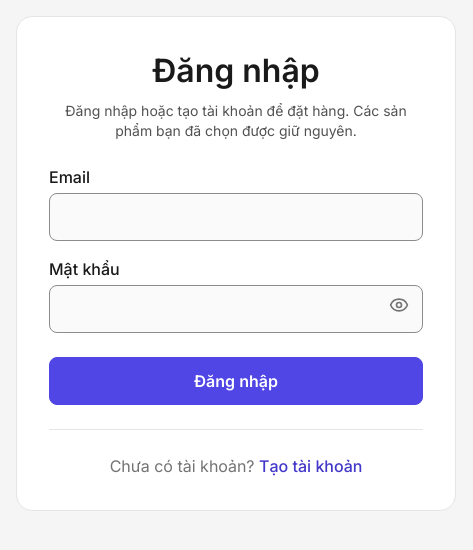
it: LoginPage › submit_showsFieldErrors_withoutCallingCognito_whenEmailInvalid
Type "an@example" into the field labelled "Email" at (236, 217), box left=49, top=193, right=423, bottom=241
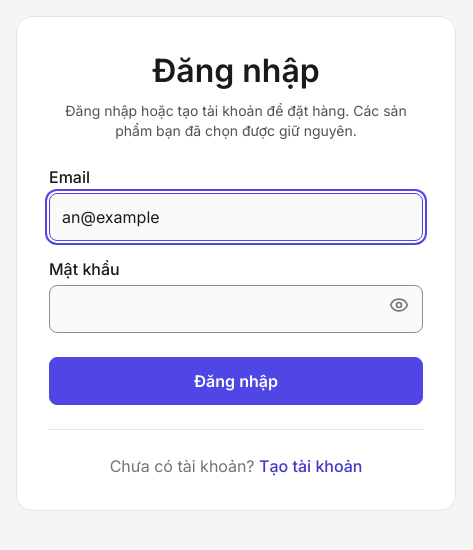
Type "Abcdef1!" into the password field labelled "Mật khẩu" at (236, 309), box left=49, top=285, right=423, bottom=333
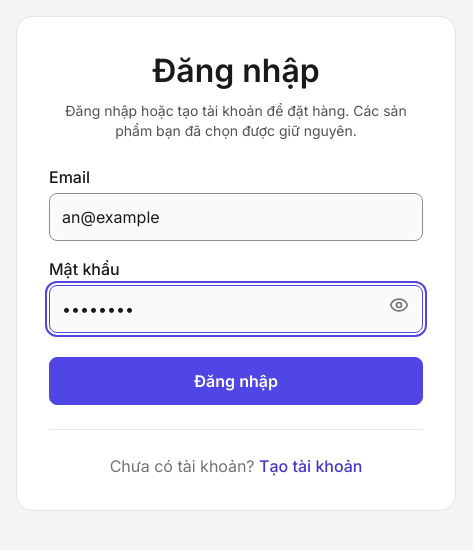
Click the button "Đăng nhập" at (236, 381), box left=49, top=357, right=423, bottom=405
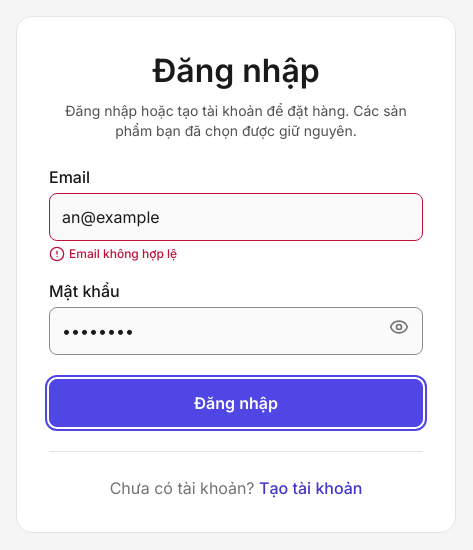
Result: the text "Email không hợp lệ" is shown at left=49, top=246, right=177, bottom=262
